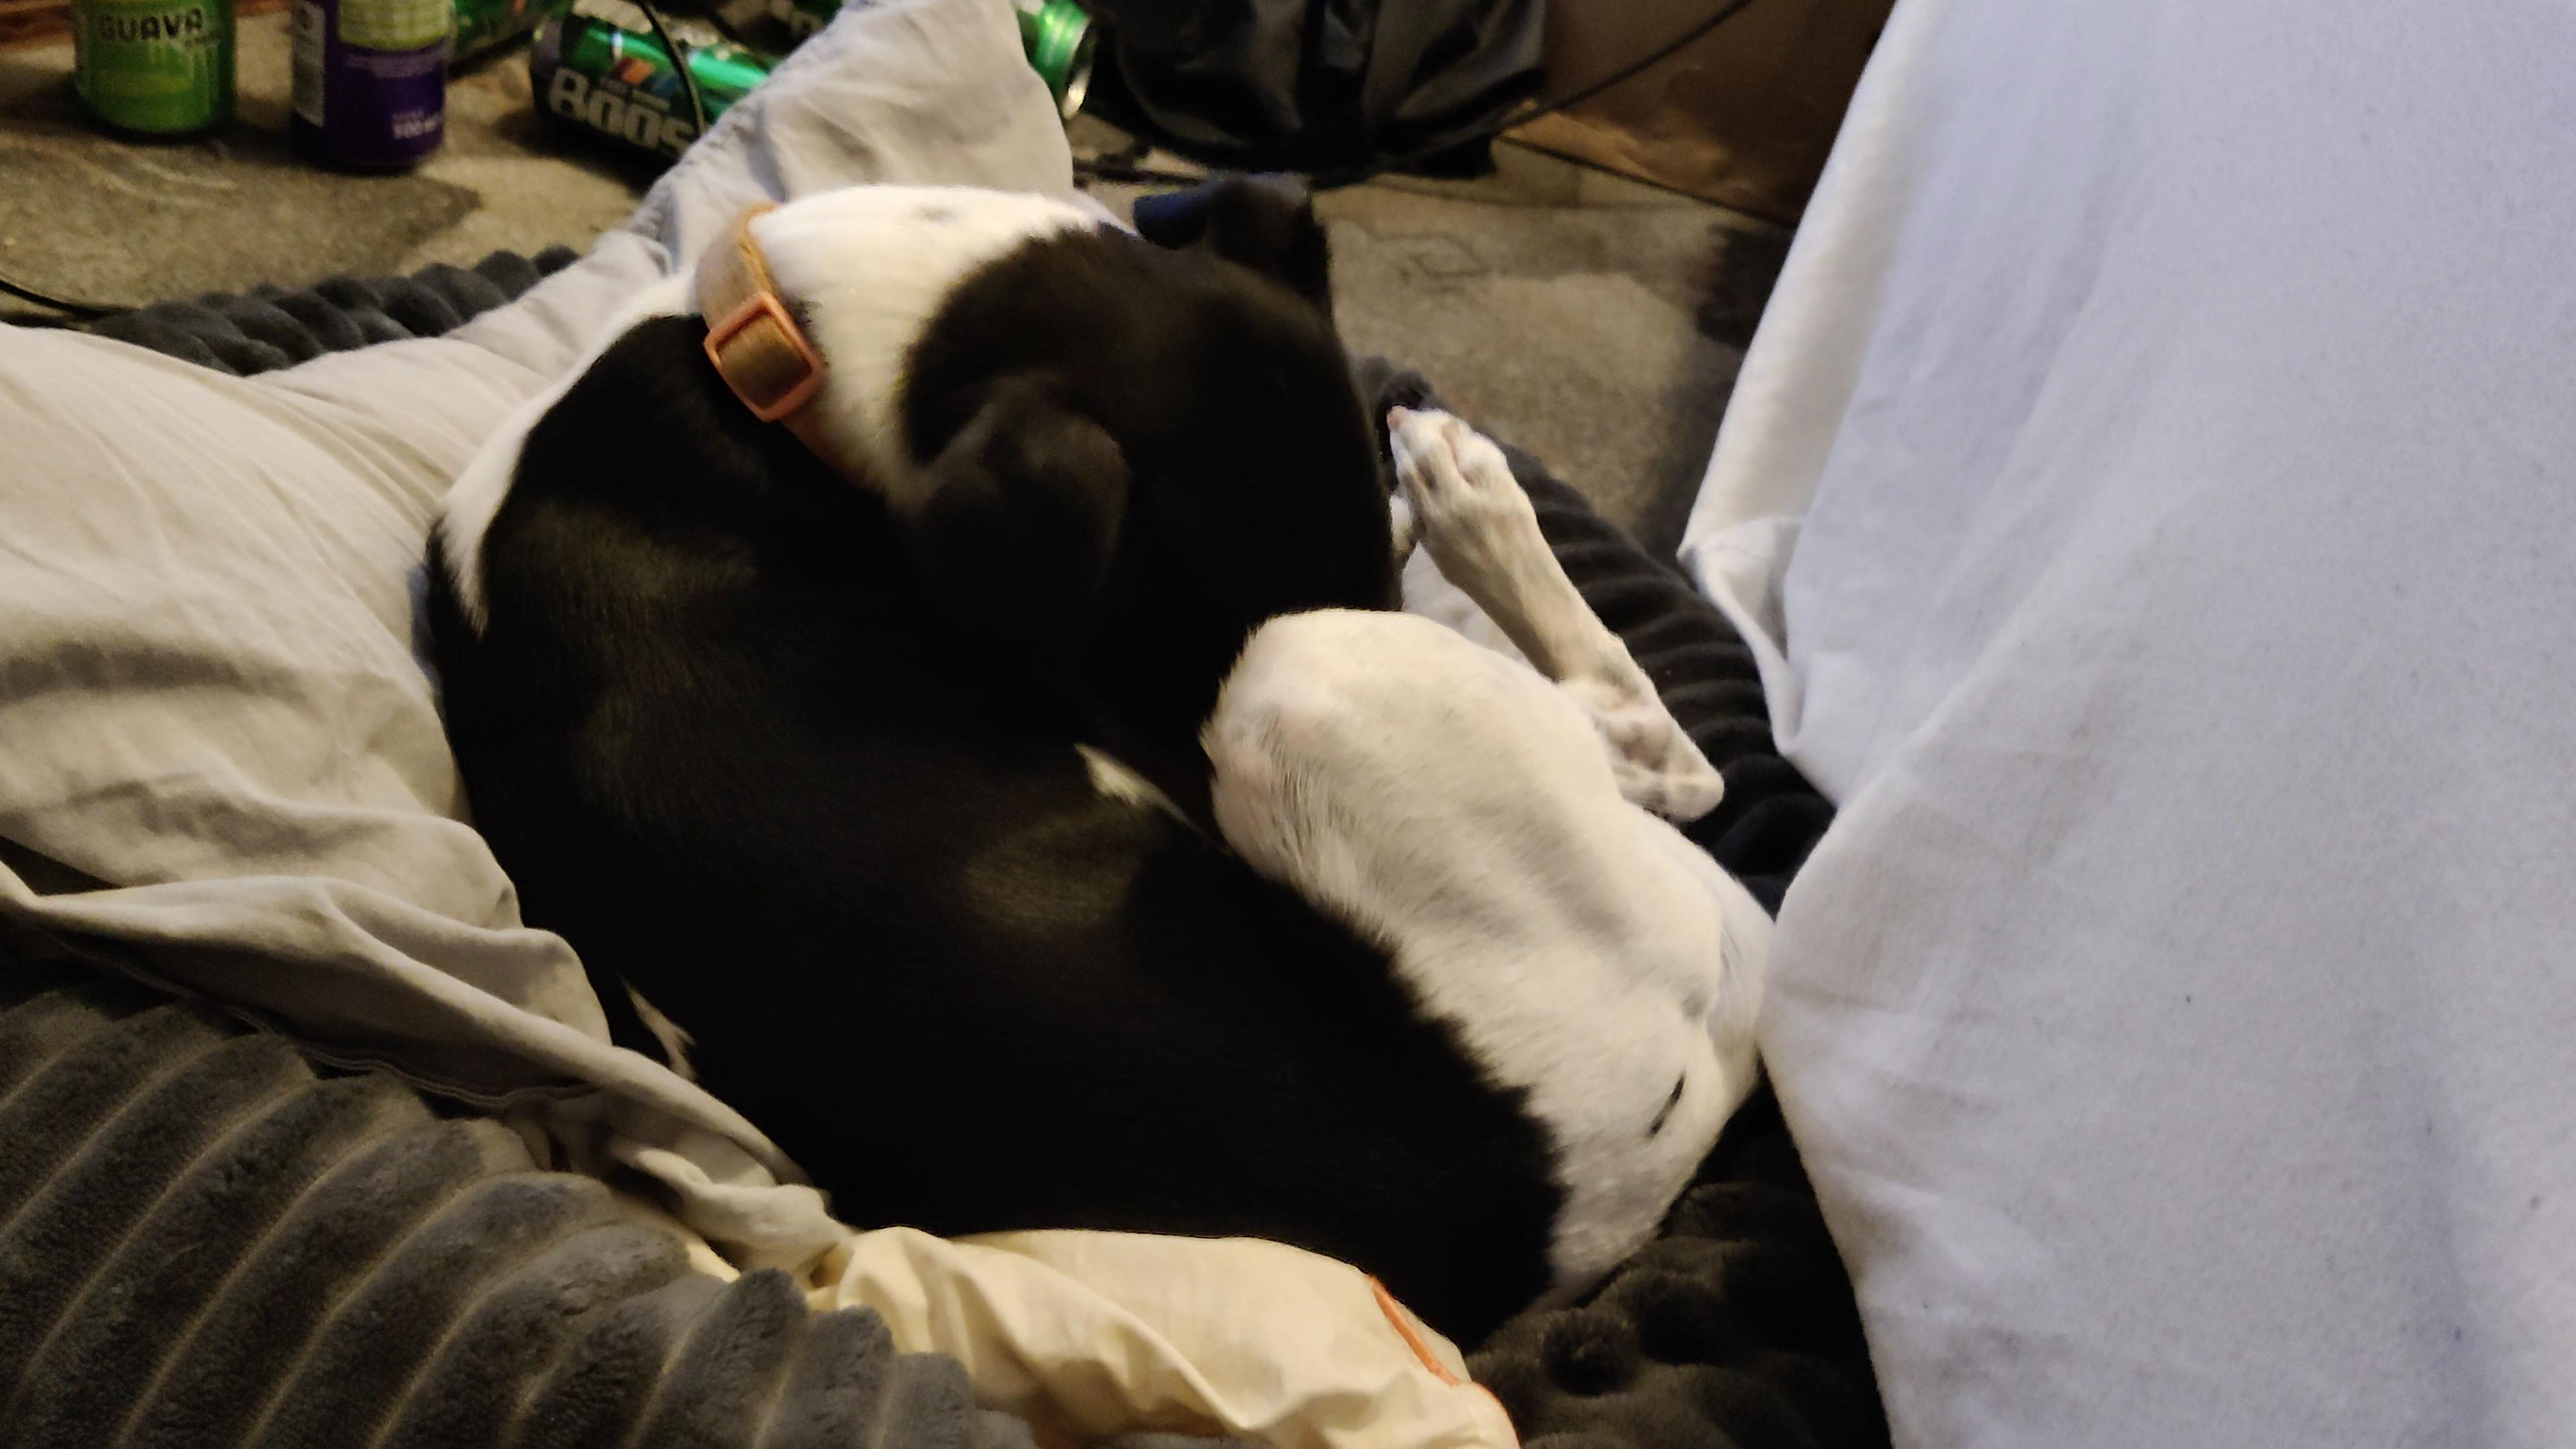Dog: (391, 133, 1806, 1392)
